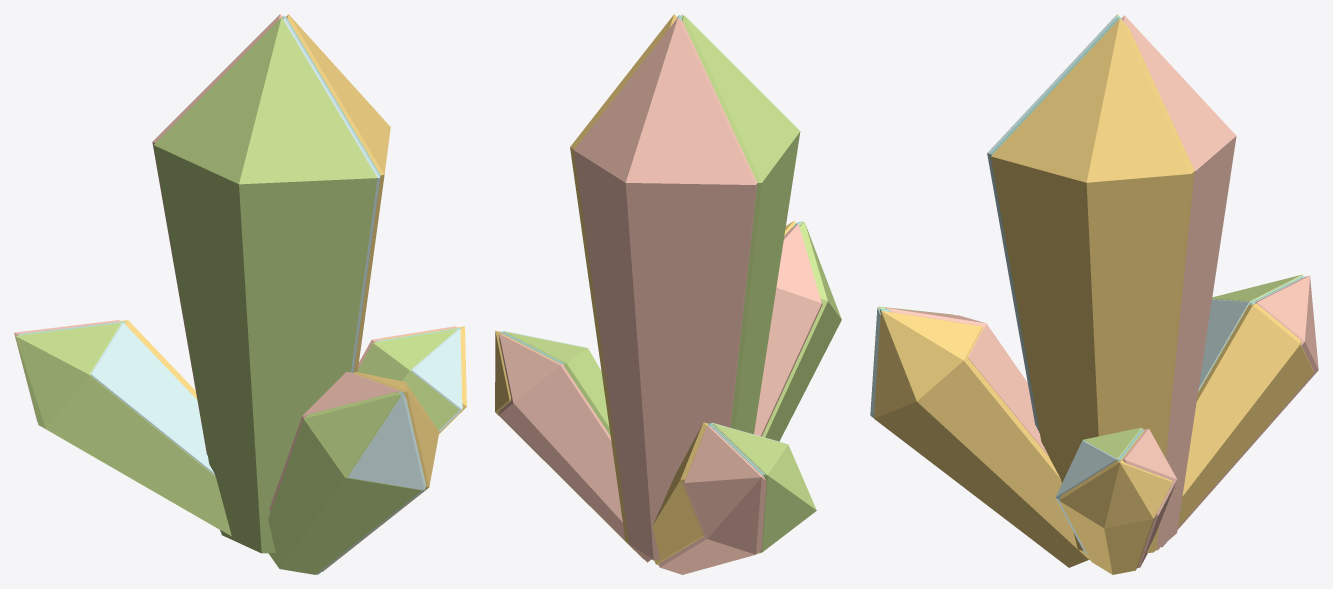
Rendered from mineral02.fbx.
3 renders of one model, left to right at view 1: azimuth 30°, elevation 25°; view 2: azimuth 150°, elevation 25°; view 3: azimuth 270°, elevation 25°, orthographic.
Visible parts, largest first — view 1: Cristal.005, Cristal.004, Cristal.007, Cristal.006, Cristal; view 2: Cristal.006, Cristal.005, Cristal.007; view 3: Cristal.007, Cristal.006, Cristal.004, Cristal.005, Cristal.
Part boxes in pixels (bbox=[...]): Cristal.005: bbox=[15, 17, 459, 574]; Cristal.004: bbox=[90, 17, 462, 574]; Cristal.007: bbox=[120, 14, 466, 571]; Cristal.006: bbox=[14, 14, 456, 531]; Cristal: bbox=[18, 16, 462, 488]; Cristal.006: bbox=[499, 17, 822, 574]; Cristal.005: bbox=[505, 15, 841, 560]; Cristal.007: bbox=[495, 14, 795, 565]; Cristal.007: bbox=[874, 18, 1313, 574]; Cristal.006: bbox=[885, 15, 1318, 567]; Cristal.004: bbox=[870, 15, 1301, 560]; Cristal.005: bbox=[878, 14, 1302, 458]; Cristal: bbox=[873, 16, 1304, 499].
Bounding box in the file's own units: 225 × 316 × 236.
